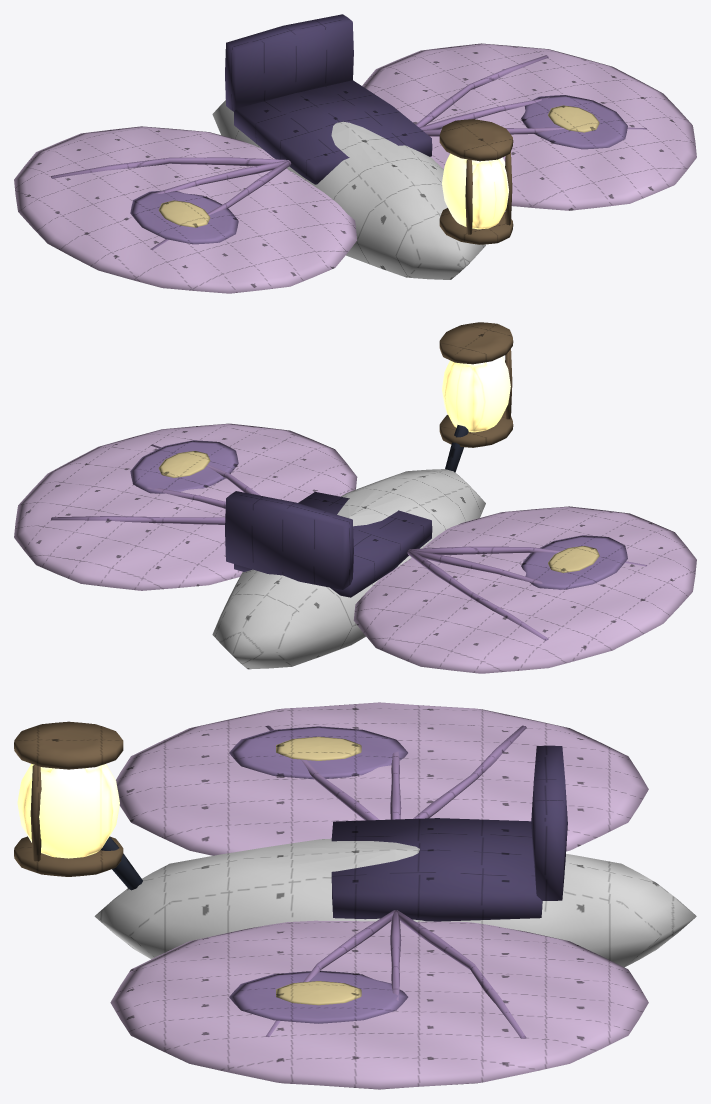
The model's file is glider.glb.
The picture shows the model from 3 angles, top to bottom: view 1: azimuth 30°, elevation 25°; view 2: azimuth 150°, elevation 25°; view 3: azimuth 270°, elevation 25°; orthographic projection. The views are drawn at different scales.
Visible parts, largest first — view 1: wing_R, wing_L, body_details, body_paint; view 2: wing_R, wing_L, body_details, body_paint; view 3: wing_L, wing_R, body_details, body_paint.
Part boxes in pixels (box(x1,y1,x2,y2)): wing_R: box(14, 126, 357, 293); wing_L: box(362, 43, 696, 210); body_details: box(225, 14, 513, 244); body_paint: box(212, 100, 485, 279); wing_R: box(353, 506, 696, 673); wing_L: box(14, 423, 357, 590); body_details: box(225, 322, 513, 597); body_paint: box(212, 469, 485, 669); wing_L: box(110, 910, 648, 1089); wing_R: box(116, 702, 648, 855); body_details: box(14, 721, 567, 921); body_paint: box(94, 838, 696, 967).
Bounding box in the file's own units: 3.48 × 1.02 × 2.6.
2 materials, 2 textured.
